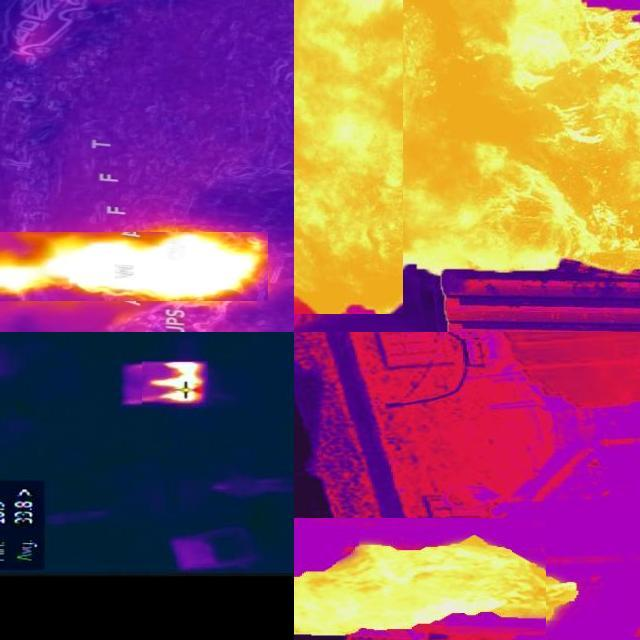fire: (421, 1, 640, 322), (295, 1, 403, 315), (295, 519, 546, 640), (1, 233, 268, 302), (142, 362, 208, 406)
